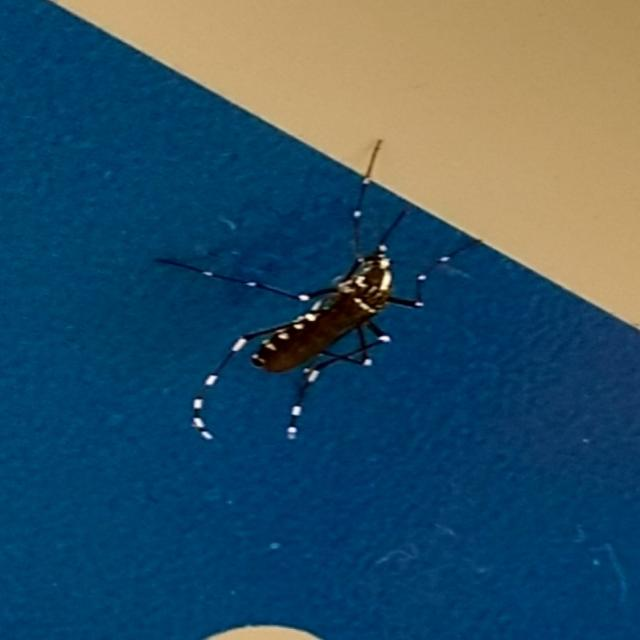albopictus: (160, 114, 515, 450)
